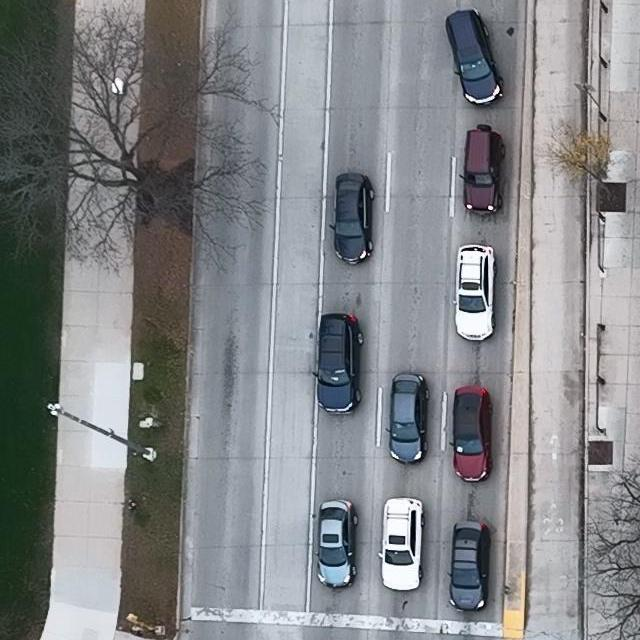car: (445, 8, 504, 108), (311, 313, 364, 417), (448, 385, 494, 484), (378, 497, 426, 591), (328, 173, 375, 266), (452, 244, 496, 343), (460, 123, 506, 216), (446, 519, 491, 613), (386, 372, 430, 466), (314, 499, 359, 590)
